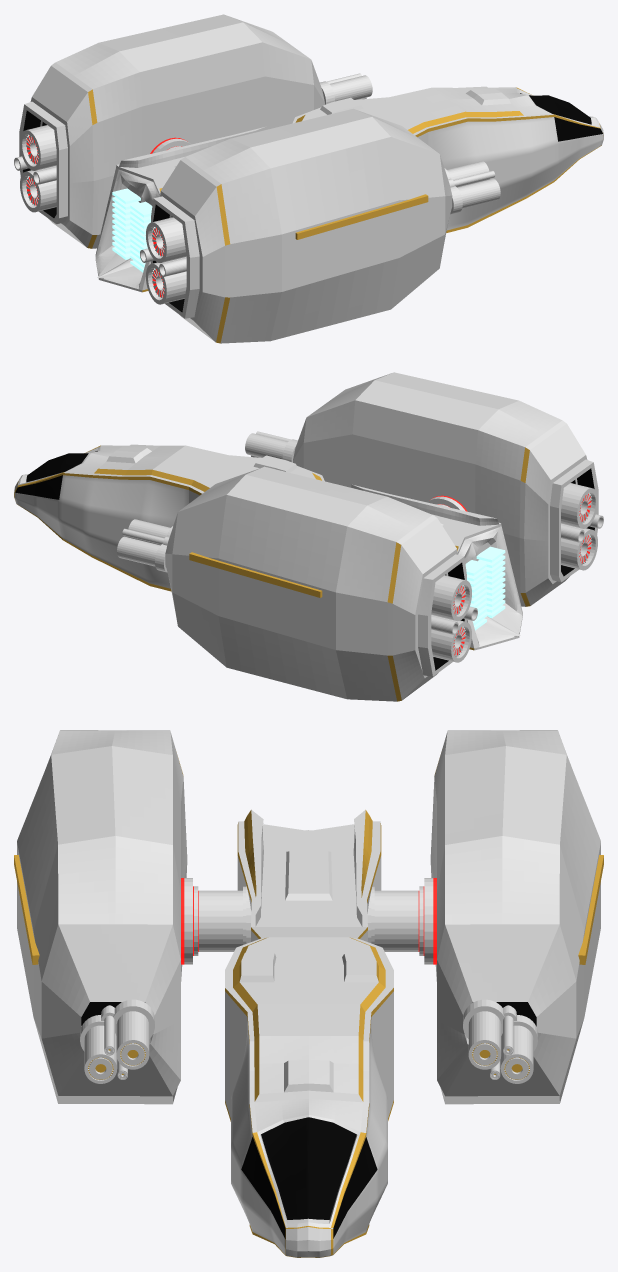
Rendered from SHIP_05.fbx.
3 renders of one model, top to bottom at view 1: azimuth 30°, elevation 25°; view 2: azimuth 150°, elevation 25°; view 3: azimuth 270°, elevation 25°, orthographic. The views are drawn at different scales.
Visible parts, largest first — view 1: TANQUES, CUERPO_NAVE, Propulsores, Canones, CELDAS; view 2: TANQUES, CUERPO_NAVE, Propulsores, Canones, CELDAS; view 3: TANQUES, CUERPO_NAVE, Canones, EJE.
Boxes of the visible parts, bbox=[...] form: TANQUES: bbox=[19, 14, 452, 343]; CUERPO_NAVE: bbox=[95, 86, 603, 292]; Propulsores: bbox=[14, 125, 186, 304]; Canones: bbox=[320, 73, 500, 214]; CELDAS: bbox=[112, 188, 152, 272]; TANQUES: bbox=[165, 372, 598, 701]; CUERPO_NAVE: bbox=[14, 444, 522, 650]; Propulsores: bbox=[431, 483, 603, 662]; Canones: bbox=[117, 431, 297, 572]; CELDAS: bbox=[465, 546, 505, 630]; TANQUES: bbox=[14, 730, 603, 1104]; CUERPO_NAVE: bbox=[225, 809, 393, 1257]; Canones: bbox=[80, 999, 537, 1083]; EJE: bbox=[181, 878, 436, 964].
Size of the model in its own units: 263 by 87.84 by 175.
